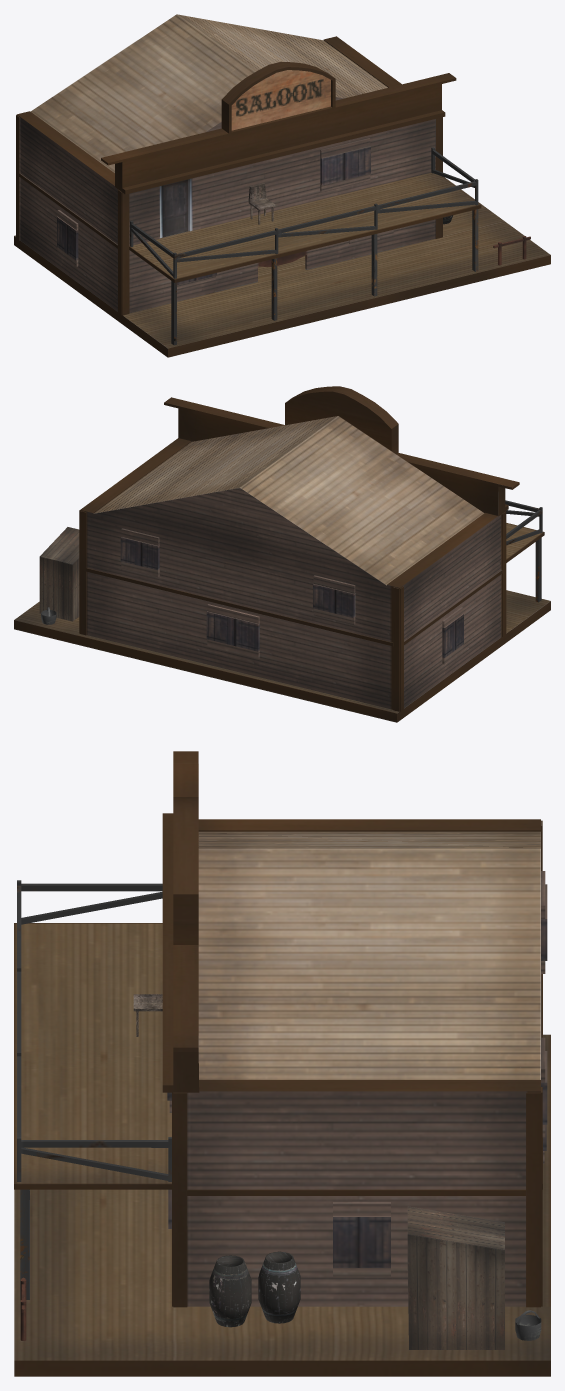
The model's file is saloon.fbx.
3 views of the same model, one above another, from view 1: azimuth 30°, elevation 25°; view 2: azimuth 150°, elevation 25°; view 3: azimuth 270°, elevation 25° (orthographic). The views are drawn at different scales.
Visible parts, largest first — view 1: Cylinder002; view 2: Cylinder002; view 3: Cylinder002.
Part boxes in pixels (x1,y1,x2,y2): Cylinder002: [14, 14, 550, 357]; Cylinder002: [14, 386, 550, 722]; Cylinder002: [14, 751, 550, 1376].
Bounding box in the file's own units: 145 × 97.69 × 75.86.
Materials: 1 (1 with a texture image).
